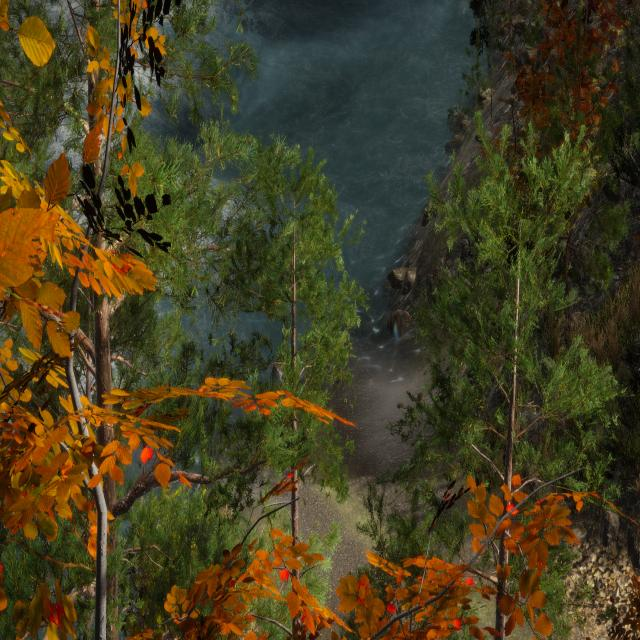Human: (262, 316, 296, 444)
